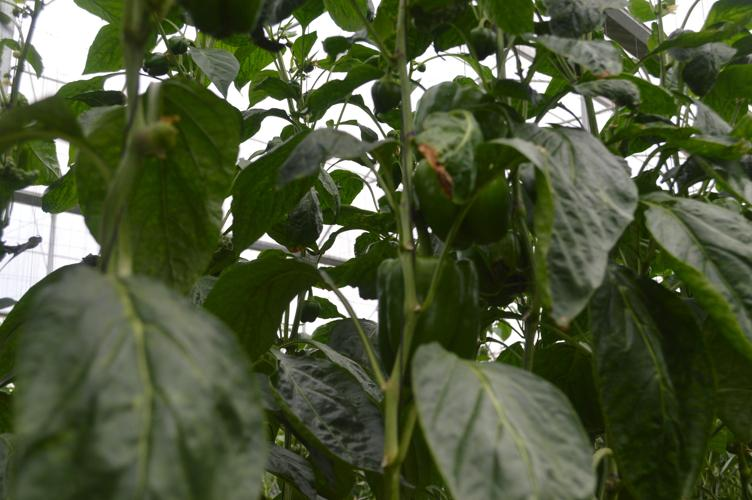BellPepper: (373, 252, 488, 373), (408, 157, 511, 243)
